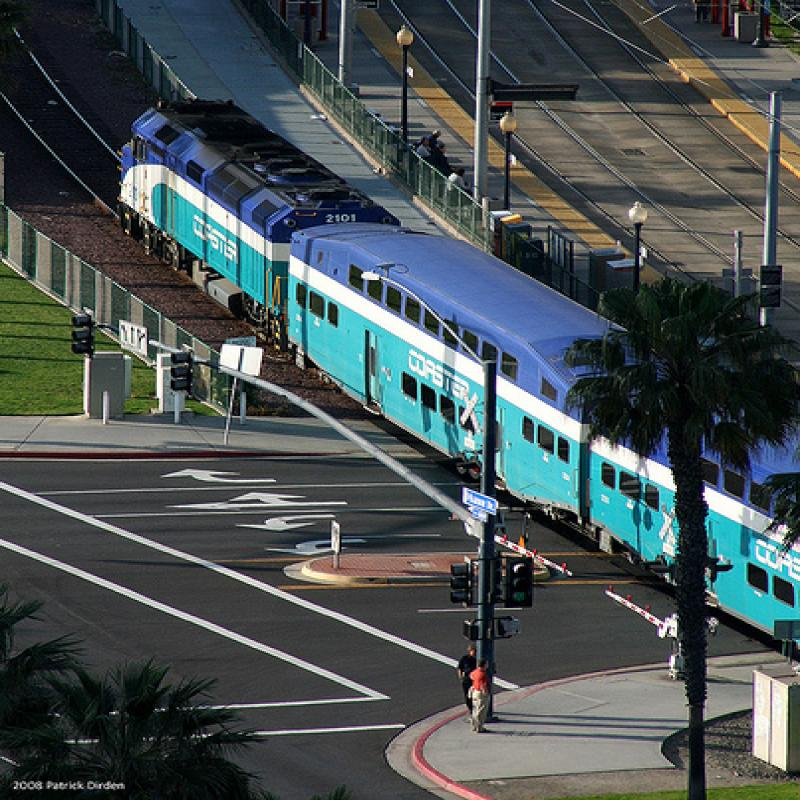train: (120, 105, 800, 655)
